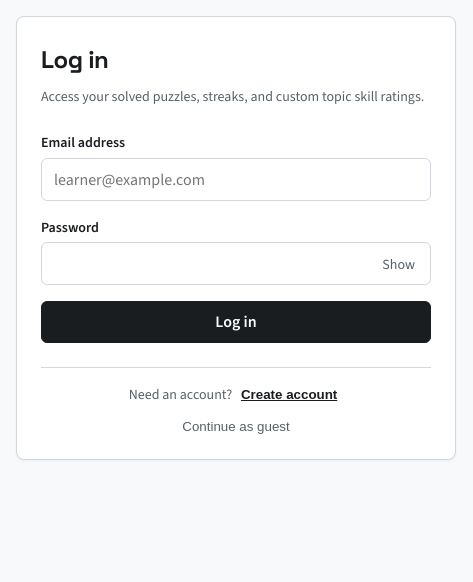
Test: Bug Hunt Arena: Visual Identity & Landing/Auth Flows › LoginRoute › shows generic credential error without revealing email existence when login fails
Type "unknown@example.com" into the field labelled "Email address" at point(236, 179), box top-left (41, 158), bottom-right (431, 201)
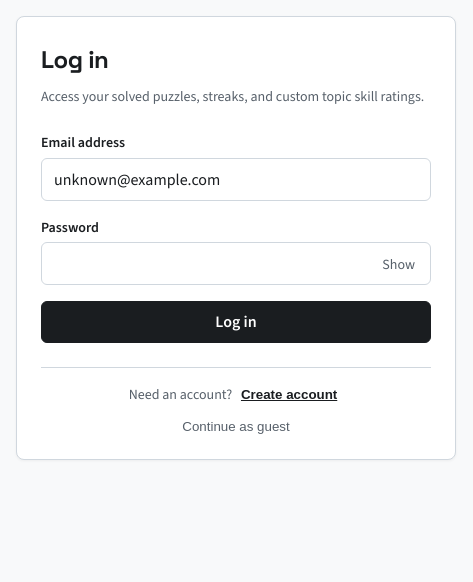
Type "secret123" into the password field labelled "Password" at point(236, 264), box top-left (41, 242), bottom-right (431, 285)
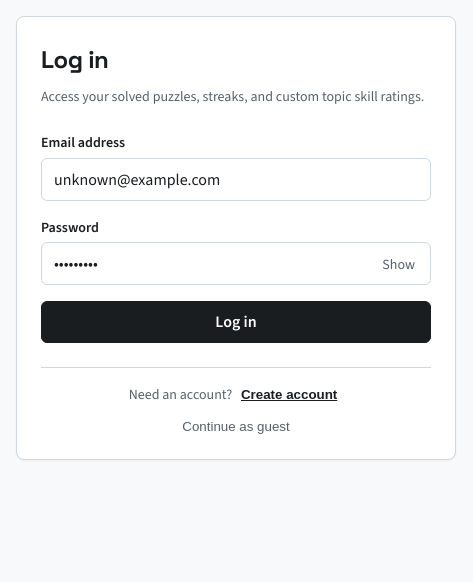
Click the button "Log in" at point(236, 322), box top-left (41, 301), bottom-right (431, 343)
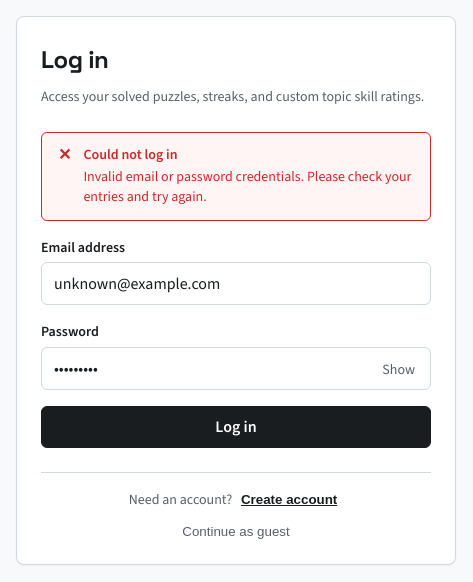
Check: the text "Invalid email or password credentials. Please check your entries and try again" is shown, box top-left (83, 167), bottom-right (411, 206)
